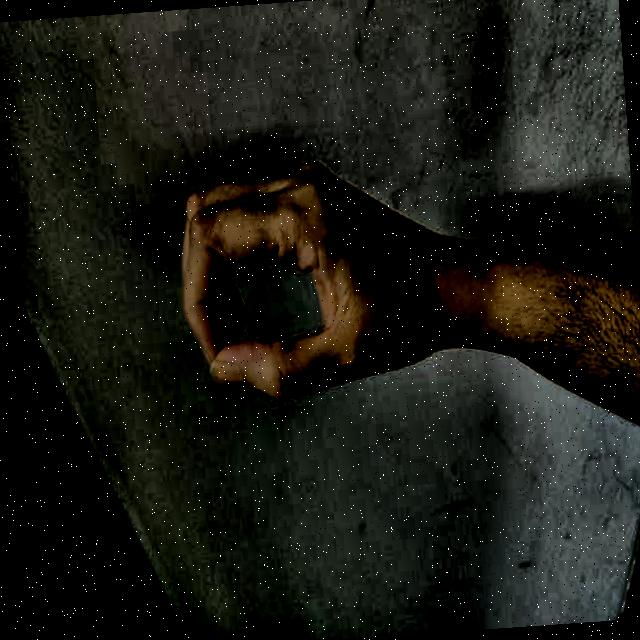O: (148, 114, 452, 438)
